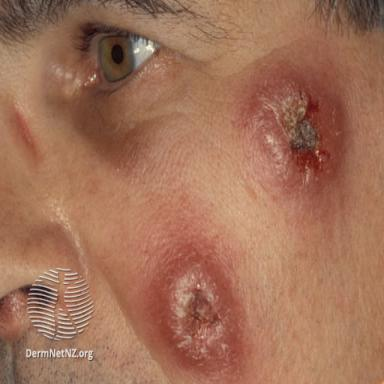Leishmanios: (149, 248, 244, 378), (240, 75, 342, 191)
